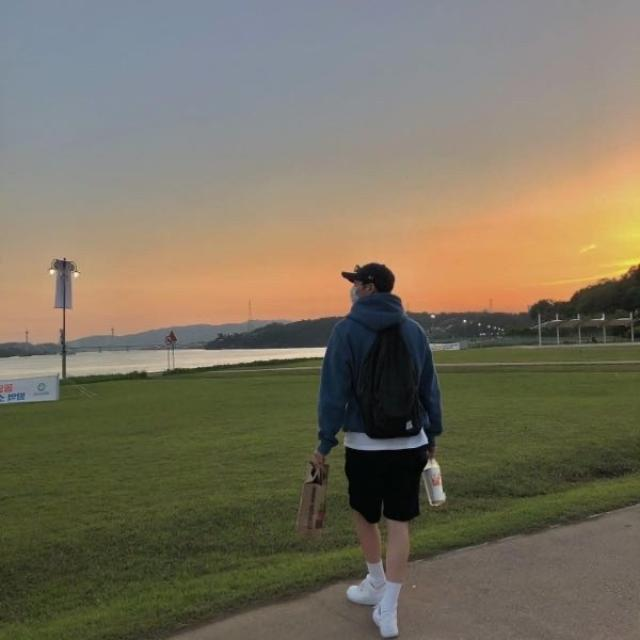hoodies: (314, 290, 442, 454)
shortpants: (342, 436, 429, 525)
